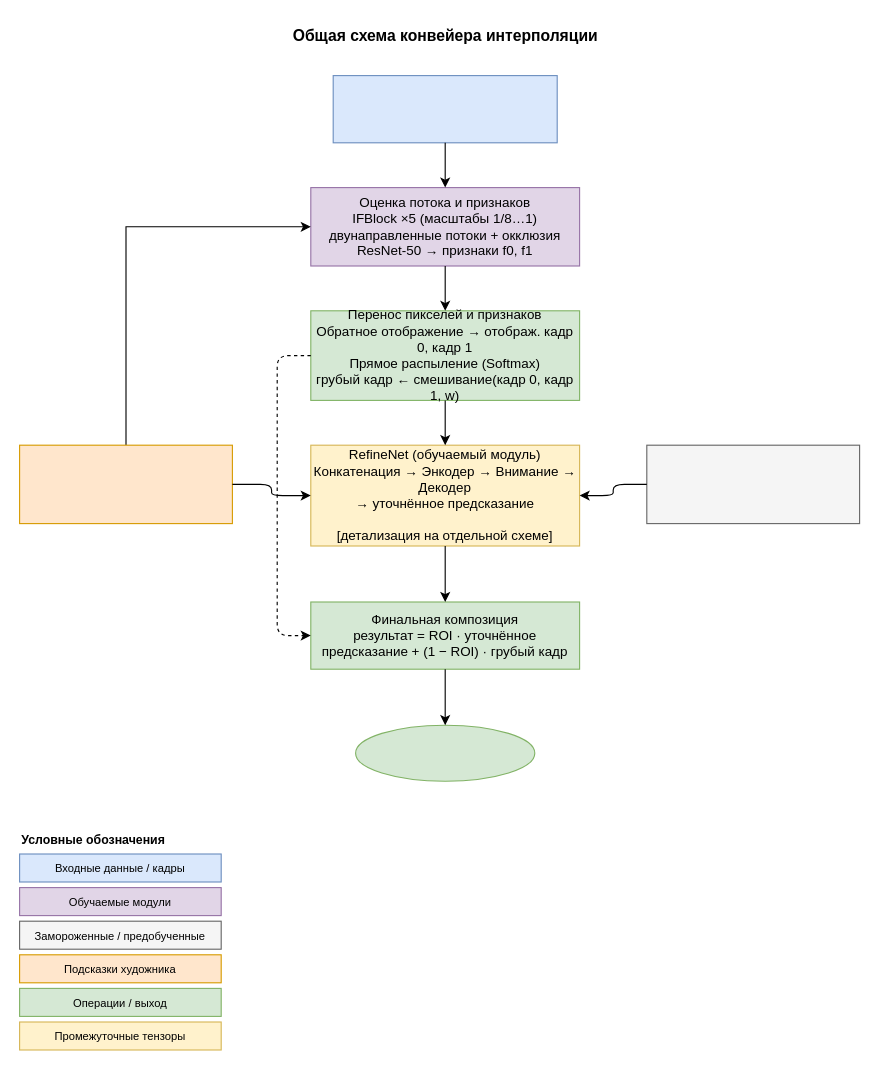
This 879x1070 diagram has some shape labels left out. Here are the shapes that lost their labels. From the top down, the centre of each, then its label:
point 444,108: Входы I0, I1 — ключевые кадры RAFT-поток (предвыч.)
point 125,484: Подсказки художника эскиз промежуточного кадра область уточнения
point 753,484: Предвычисленные карты ISNet — маска персонажа Anime2Sketch — карта границ
point 444,752: It — промежуточный кадр
